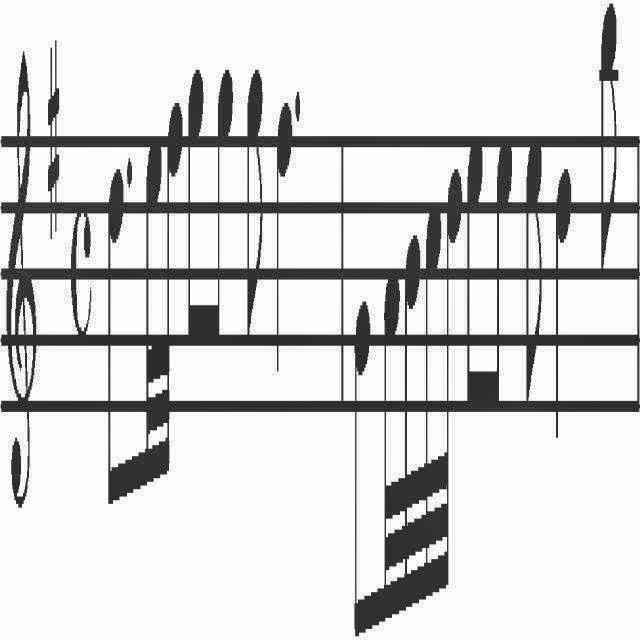Bass-clef: (1, 0, 39, 584)
Diez: (43, 22, 67, 230)
Eighth-note: (240, 19, 270, 357), (101, 119, 125, 534), (519, 110, 549, 434), (347, 264, 369, 640), (491, 110, 517, 426), (595, 0, 623, 292), (212, 40, 234, 380), (464, 113, 484, 463), (184, 43, 204, 374), (276, 68, 292, 380)
Quarter-note: (554, 150, 576, 462)
